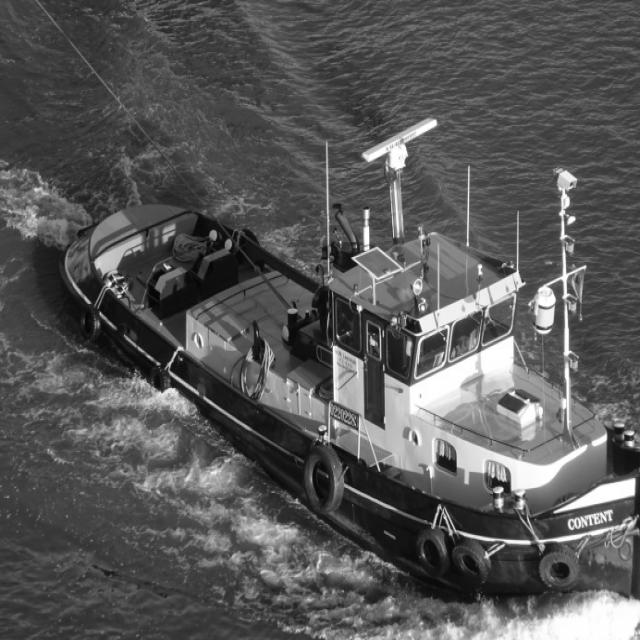tugboat: (56, 112, 640, 640)
